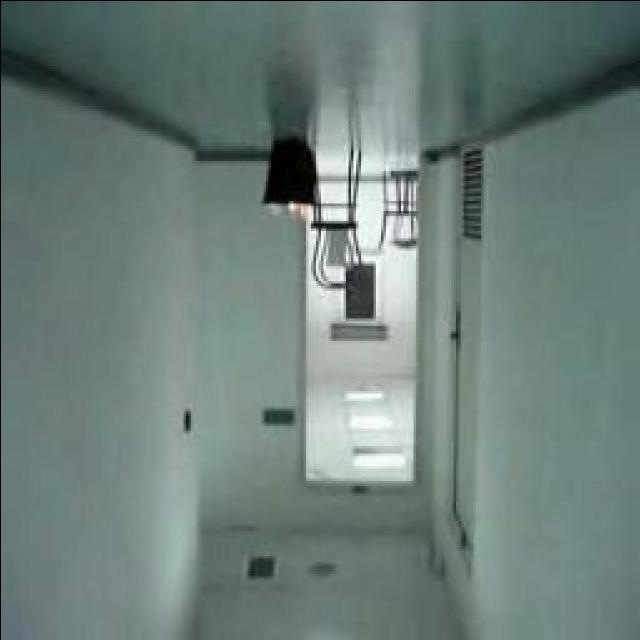Fire: (262, 204, 310, 220)
